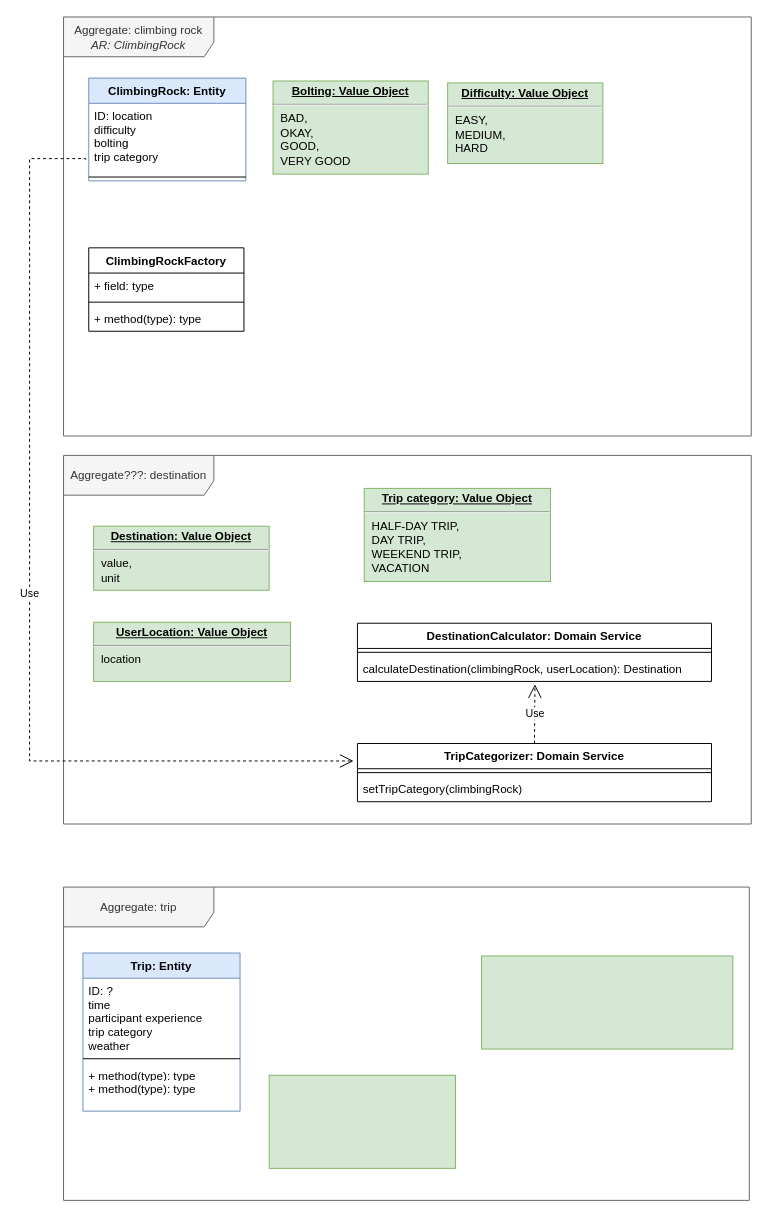
This 768x1217 diagram has some shape labels left out. The centre of each missing label's shape, as x and y in pixels:
Participant experience: Value Object BEGINNER, ADVANCED, PROFESSIONAL: the point at 607,1002
Weather: Value Object SUN, CLOUD, RAIN, SNOW: the point at 361,1121
